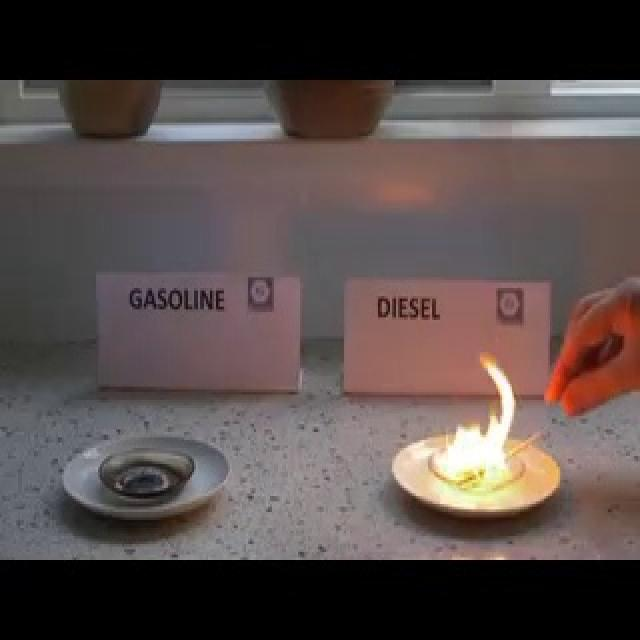fire: (433, 345, 518, 488)
